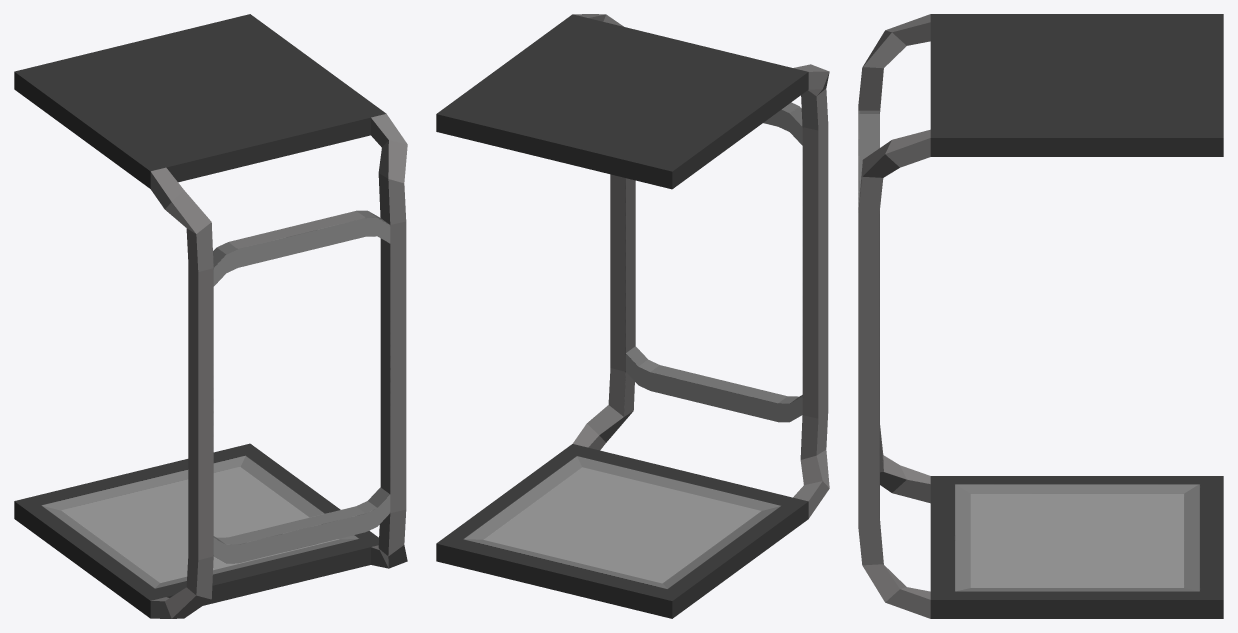
The model's file is Elevator.fbx.
3 views of the same model, side by side, from view 1: azimuth 30°, elevation 25°; view 2: azimuth 150°, elevation 25°; view 3: azimuth 270°, elevation 25° (orthographic). The views are drawn at different scales.
Visible parts, largest first — view 1: Cube; view 2: Cube; view 3: Cube.
Boxes of the visible parts, x1,y1,x2,y2 form: Cube: (14,14,407,618); Cube: (436,14,829,618); Cube: (858,14,1223,618).
Size of the model in its own units: 180 by 326 by 225.
